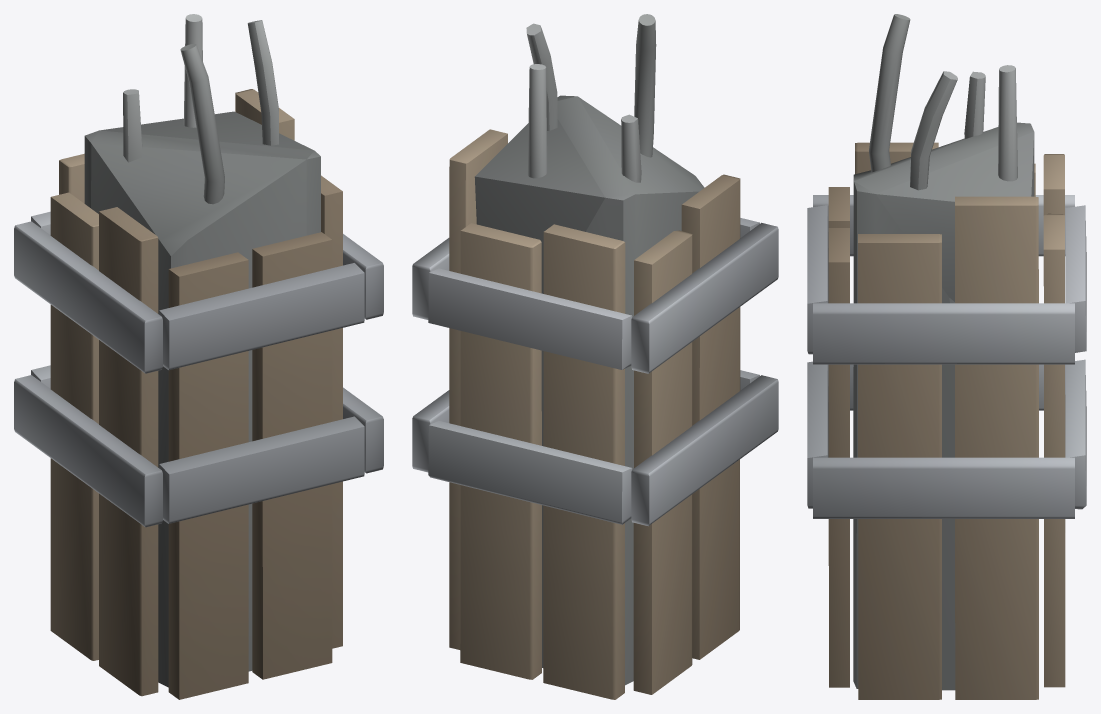
Rendered from Cement_barrier_broken.fbx.
3 views of the same model, side by side, from view 1: azimuth 30°, elevation 25°; view 2: azimuth 150°, elevation 25°; view 3: azimuth 270°, elevation 25° (orthographic).
Visible parts, largest first — view 1: Cement_barrier_broken; view 2: Cement_barrier_broken; view 3: Cement_barrier_broken.
Boxes of the visible parts, x1,y1,x2,y2 form: Cement_barrier_broken: (14,14,383,699); Cement_barrier_broken: (412,14,778,699); Cement_barrier_broken: (807,14,1086,699).
Bounding box in the file's own units: 160 × 395 × 161.
